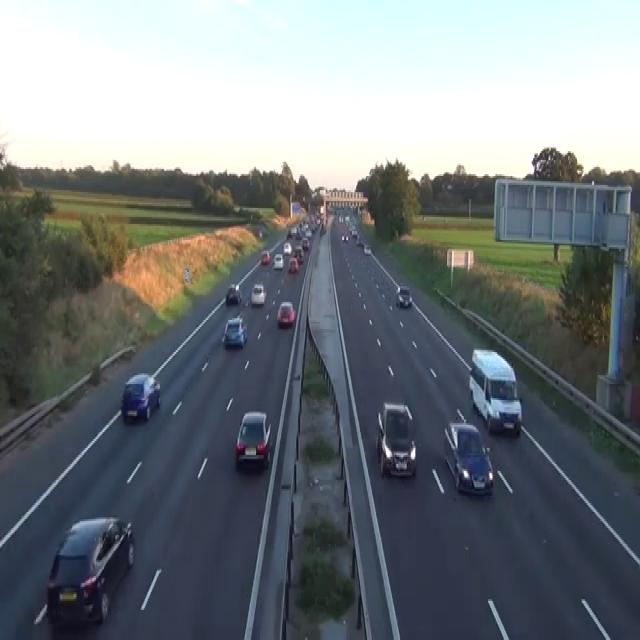Car: (46, 516, 134, 626), (443, 421, 493, 496), (376, 402, 416, 478), (235, 411, 272, 469), (121, 372, 161, 423), (221, 314, 247, 348), (277, 301, 295, 327), (396, 284, 412, 308), (250, 282, 266, 306), (225, 283, 241, 304), (288, 256, 298, 274), (293, 245, 303, 263), (260, 249, 270, 265), (273, 252, 283, 268), (283, 242, 291, 254), (301, 238, 309, 249), (363, 244, 371, 254), (319, 224, 326, 235), (355, 237, 363, 246), (341, 233, 349, 242), (233, 203, 240, 213), (351, 226, 357, 236), (344, 215, 349, 226), (286, 230, 292, 238), (305, 228, 311, 236), (258, 228, 262, 238), (338, 214, 343, 222), (341, 233, 345, 242)
Truck: (468, 348, 522, 436)
